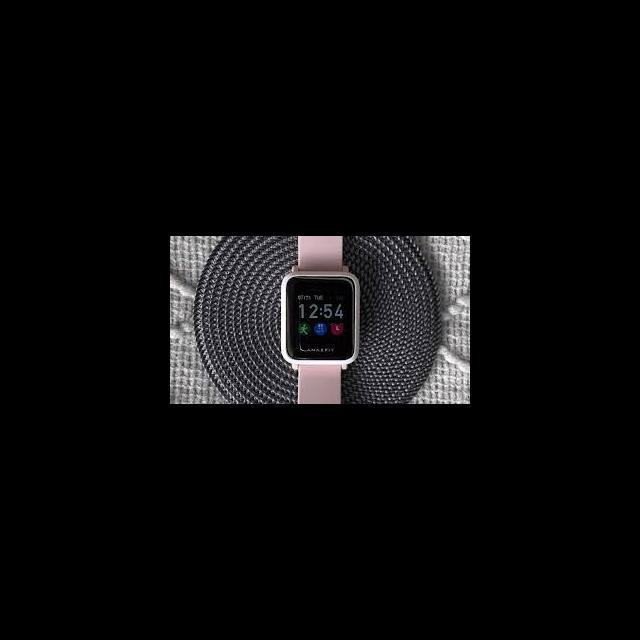watch: (252, 250, 390, 413)
